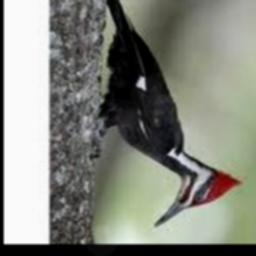Woodpecker: (98, 0, 244, 227)
